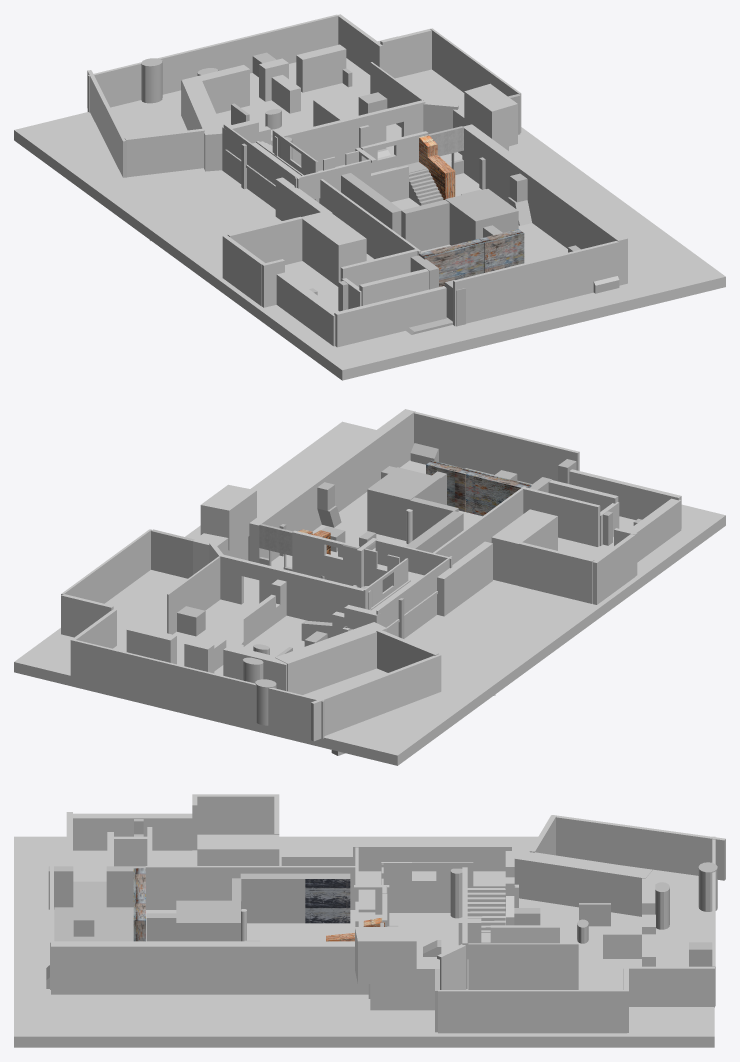
File: Gde_moio_zaveshanie2025_(.fbx
3 views of the same model, one above another, from view 1: azimuth 30°, elevation 25°; view 2: azimuth 150°, elevation 25°; view 3: azimuth 270°, elevation 25° (orthographic). The views are drawn at different scales.
Parts seen in each view (by area): view 1: Cube.001, Cube, Cube__2__1, Cube.002, Cube__8_, Cube__15_, Cube__29_, Cube_2, Cube__21_, Cube__3_, Cube__61_, Cube__43_ (+34 smaller); view 2: Cube.001, Cube__2__1, Cube.002, Cube, Cube__1__1, Cube_1, Cube__29_, Cube__3_, Cube__17_, Cube__16__1, Cube__15_, Cube__43_ (+33 smaller); view 3: Cube.001, Cube.002, Cube__16__1, Cube__1__1, Cube_1, Cube.006, Cube__13__1, Cube__61_, Cube__11_, Cube__11__1, Cube__43_, Cube__41_ (+30 smaller).
Boxes of the visible parts, x1,y1,x2,y2 form: Cube.001: (14,36,725,380); Cube: (453,241,619,326); Cube__2__1: (87,14,338,112); Cube.002: (462,124,627,285); Cube__8_: (334,286,446,347); Cube__15_: (301,210,366,286); Cube__29_: (274,109,386,170); Cube_2: (124,128,204,177); Cube__21_: (225,142,408,202); Cube__3_: (445,189,518,245); Cube__61_: (319,179,420,258); Cube__43_: (464,83,517,147); Cube.001: (14,421,725,765); Cube__2__1: (73,639,324,738); Cube.002: (249,409,415,562); Cube: (414,411,579,484); Cube__1__1: (311,654,441,741); Cube_1: (275,622,386,694); Cube__29_: (259,564,371,622); Cube__3_: (367,467,440,540); Cube__17_: (519,542,594,603); Cube__16__1: (61,529,151,603); Cube__15_: (491,509,557,585); Cube__43_: (200,484,256,550); Cube.001: (14,836,714,1047); Cube.002: (51,941,368,994); Cube__16__1: (438,990,627,1033); Cube__1__1: (552,815,725,880); Cube_1: (514,850,652,916); Cube.006: (240,873,350,923); Cube__13__1: (468,943,578,989); Cube__61_: (145,866,355,909); Cube__11_: (73,813,192,850); Cube__11__1: (623,966,714,1007); Cube__43_: (355,927,416,983); Cube__41_: (353,846,511,871).
Bounding box in the file's own units: 7757 × 1884 × 11682.
